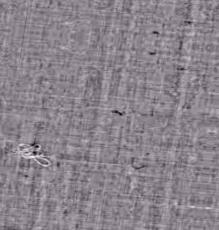snag: (14, 137, 60, 174)
